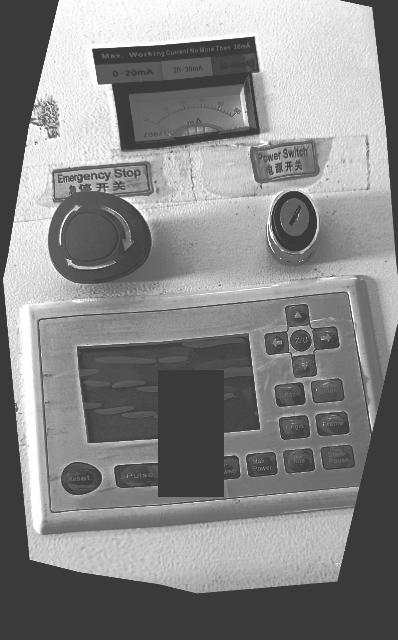Amp_Meter: (129, 76, 257, 144)
Display: (78, 335, 259, 443)
Down_button: (293, 355, 316, 377)
Emergency_Stop: (49, 192, 151, 284)
Enter_button: (312, 379, 344, 403)
Esc_button: (275, 383, 305, 406)
File_button: (284, 449, 314, 473)
Frame_button: (316, 412, 349, 436)
Left_button: (265, 332, 289, 354)
Max-Power_button: (247, 453, 278, 477)
Min-Power_button: (224, 456, 240, 479)
Origin_button: (279, 416, 310, 439)
Power_switch: (267, 191, 319, 264)
Pulse_button: (115, 463, 158, 487)
Reset_button: (61, 463, 101, 495)
Right_button: (313, 327, 339, 349)
Start-Pause_button: (321, 445, 354, 469)
Up_button: (286, 304, 309, 326)
Z_U_button: (291, 330, 311, 351)
